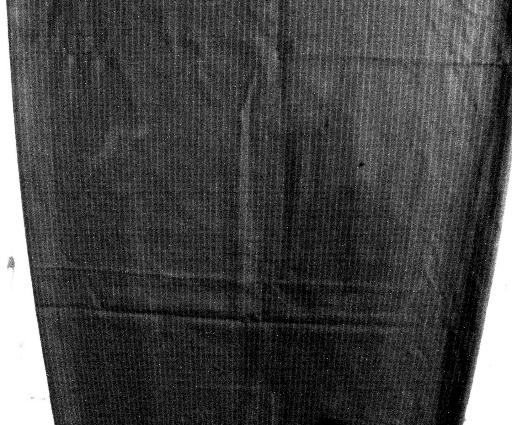fabric_hole: (324, 119, 336, 136), (356, 157, 368, 173)
